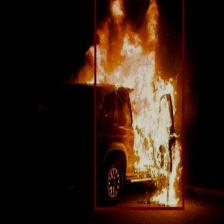fire: (94, 0, 183, 209)
